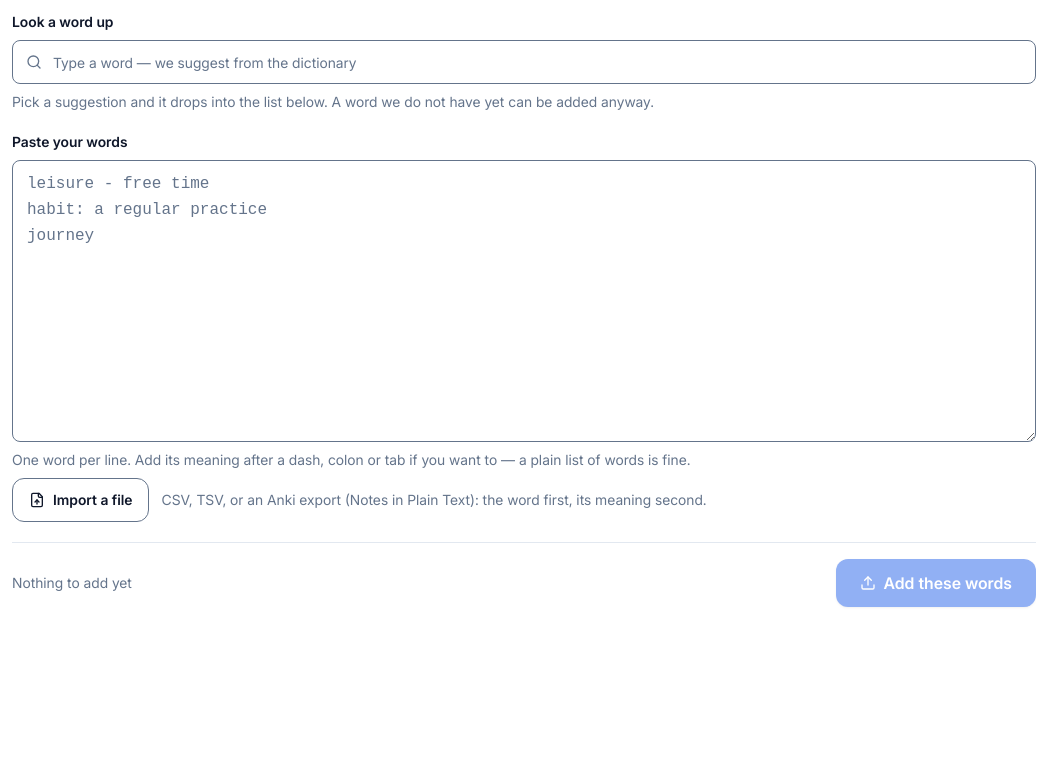
Test: Adding a word with suggestions › offers the dictionary from the upload screen itself
Type "wor" into the dropdown at (524, 62), box [12,40,1036,84]
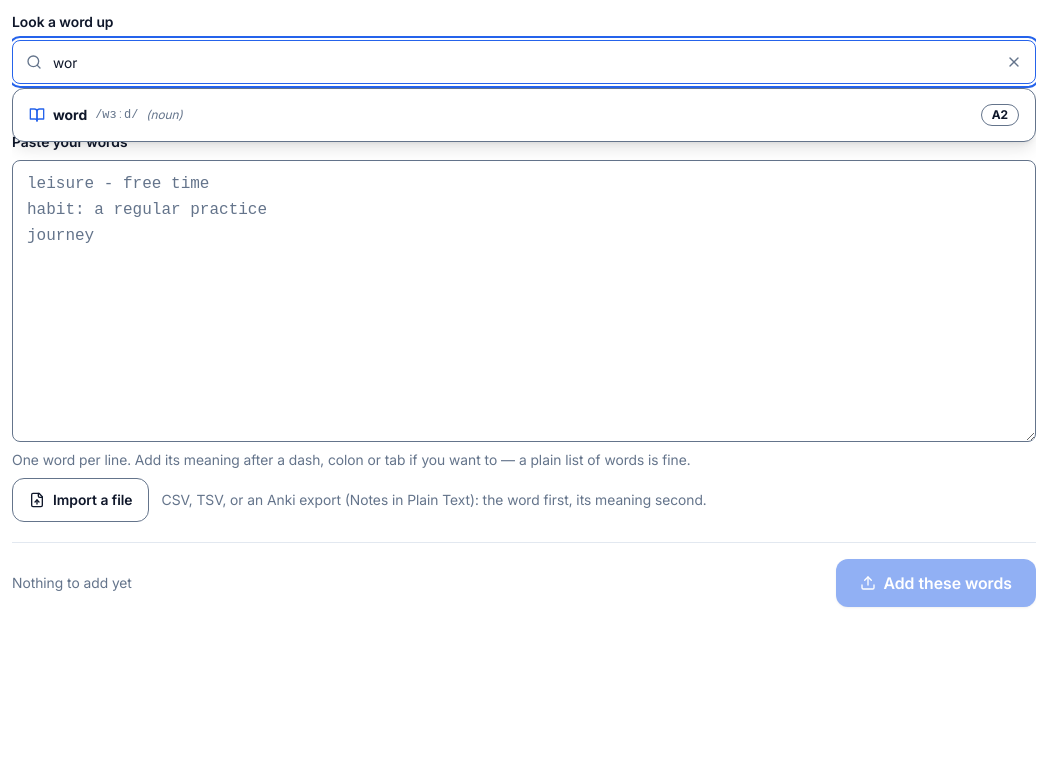
Expected: the text "word" is shown, [53,105,87,125]
